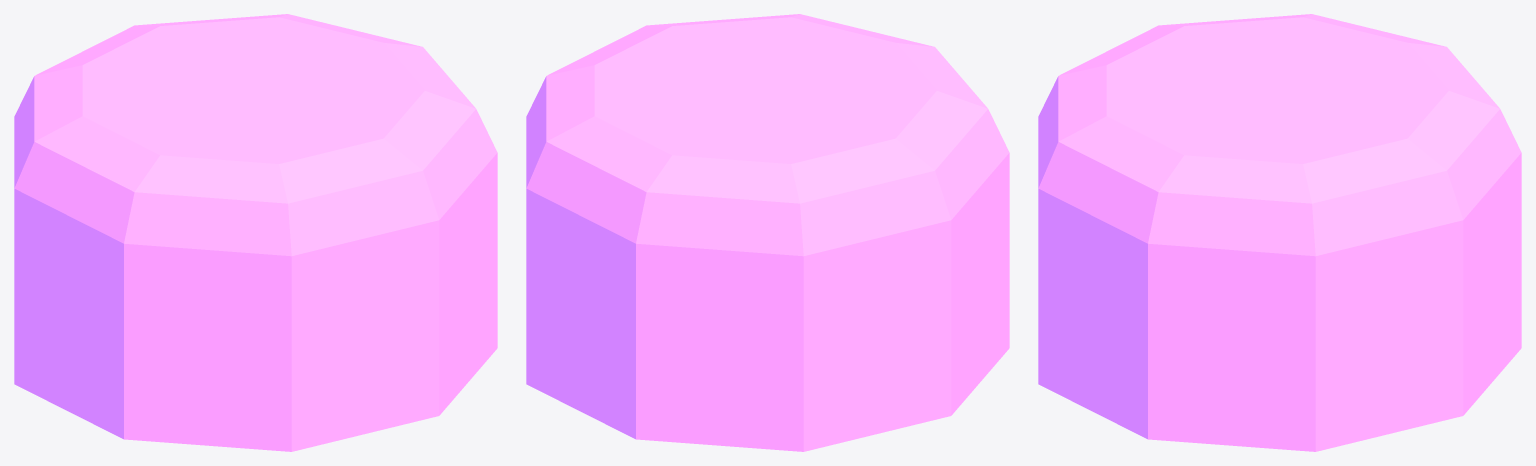
File: BotonMorado.fbx
3 renders of one model, left to right at view 1: azimuth 30°, elevation 25°; view 2: azimuth 150°, elevation 25°; view 3: azimuth 270°, elevation 25°, orthographic.
Parts seen in each view (by area): view 1: BotonMorado; view 2: BotonMorado; view 3: BotonMorado.
Boxes of the visible parts, x1,y1,x2,y2 form: BotonMorado: (14, 14, 497, 451); BotonMorado: (526, 14, 1009, 451); BotonMorado: (1038, 14, 1521, 451).
Bounding box in the file's own units: 57.05 × 33.05 × 56.19.
